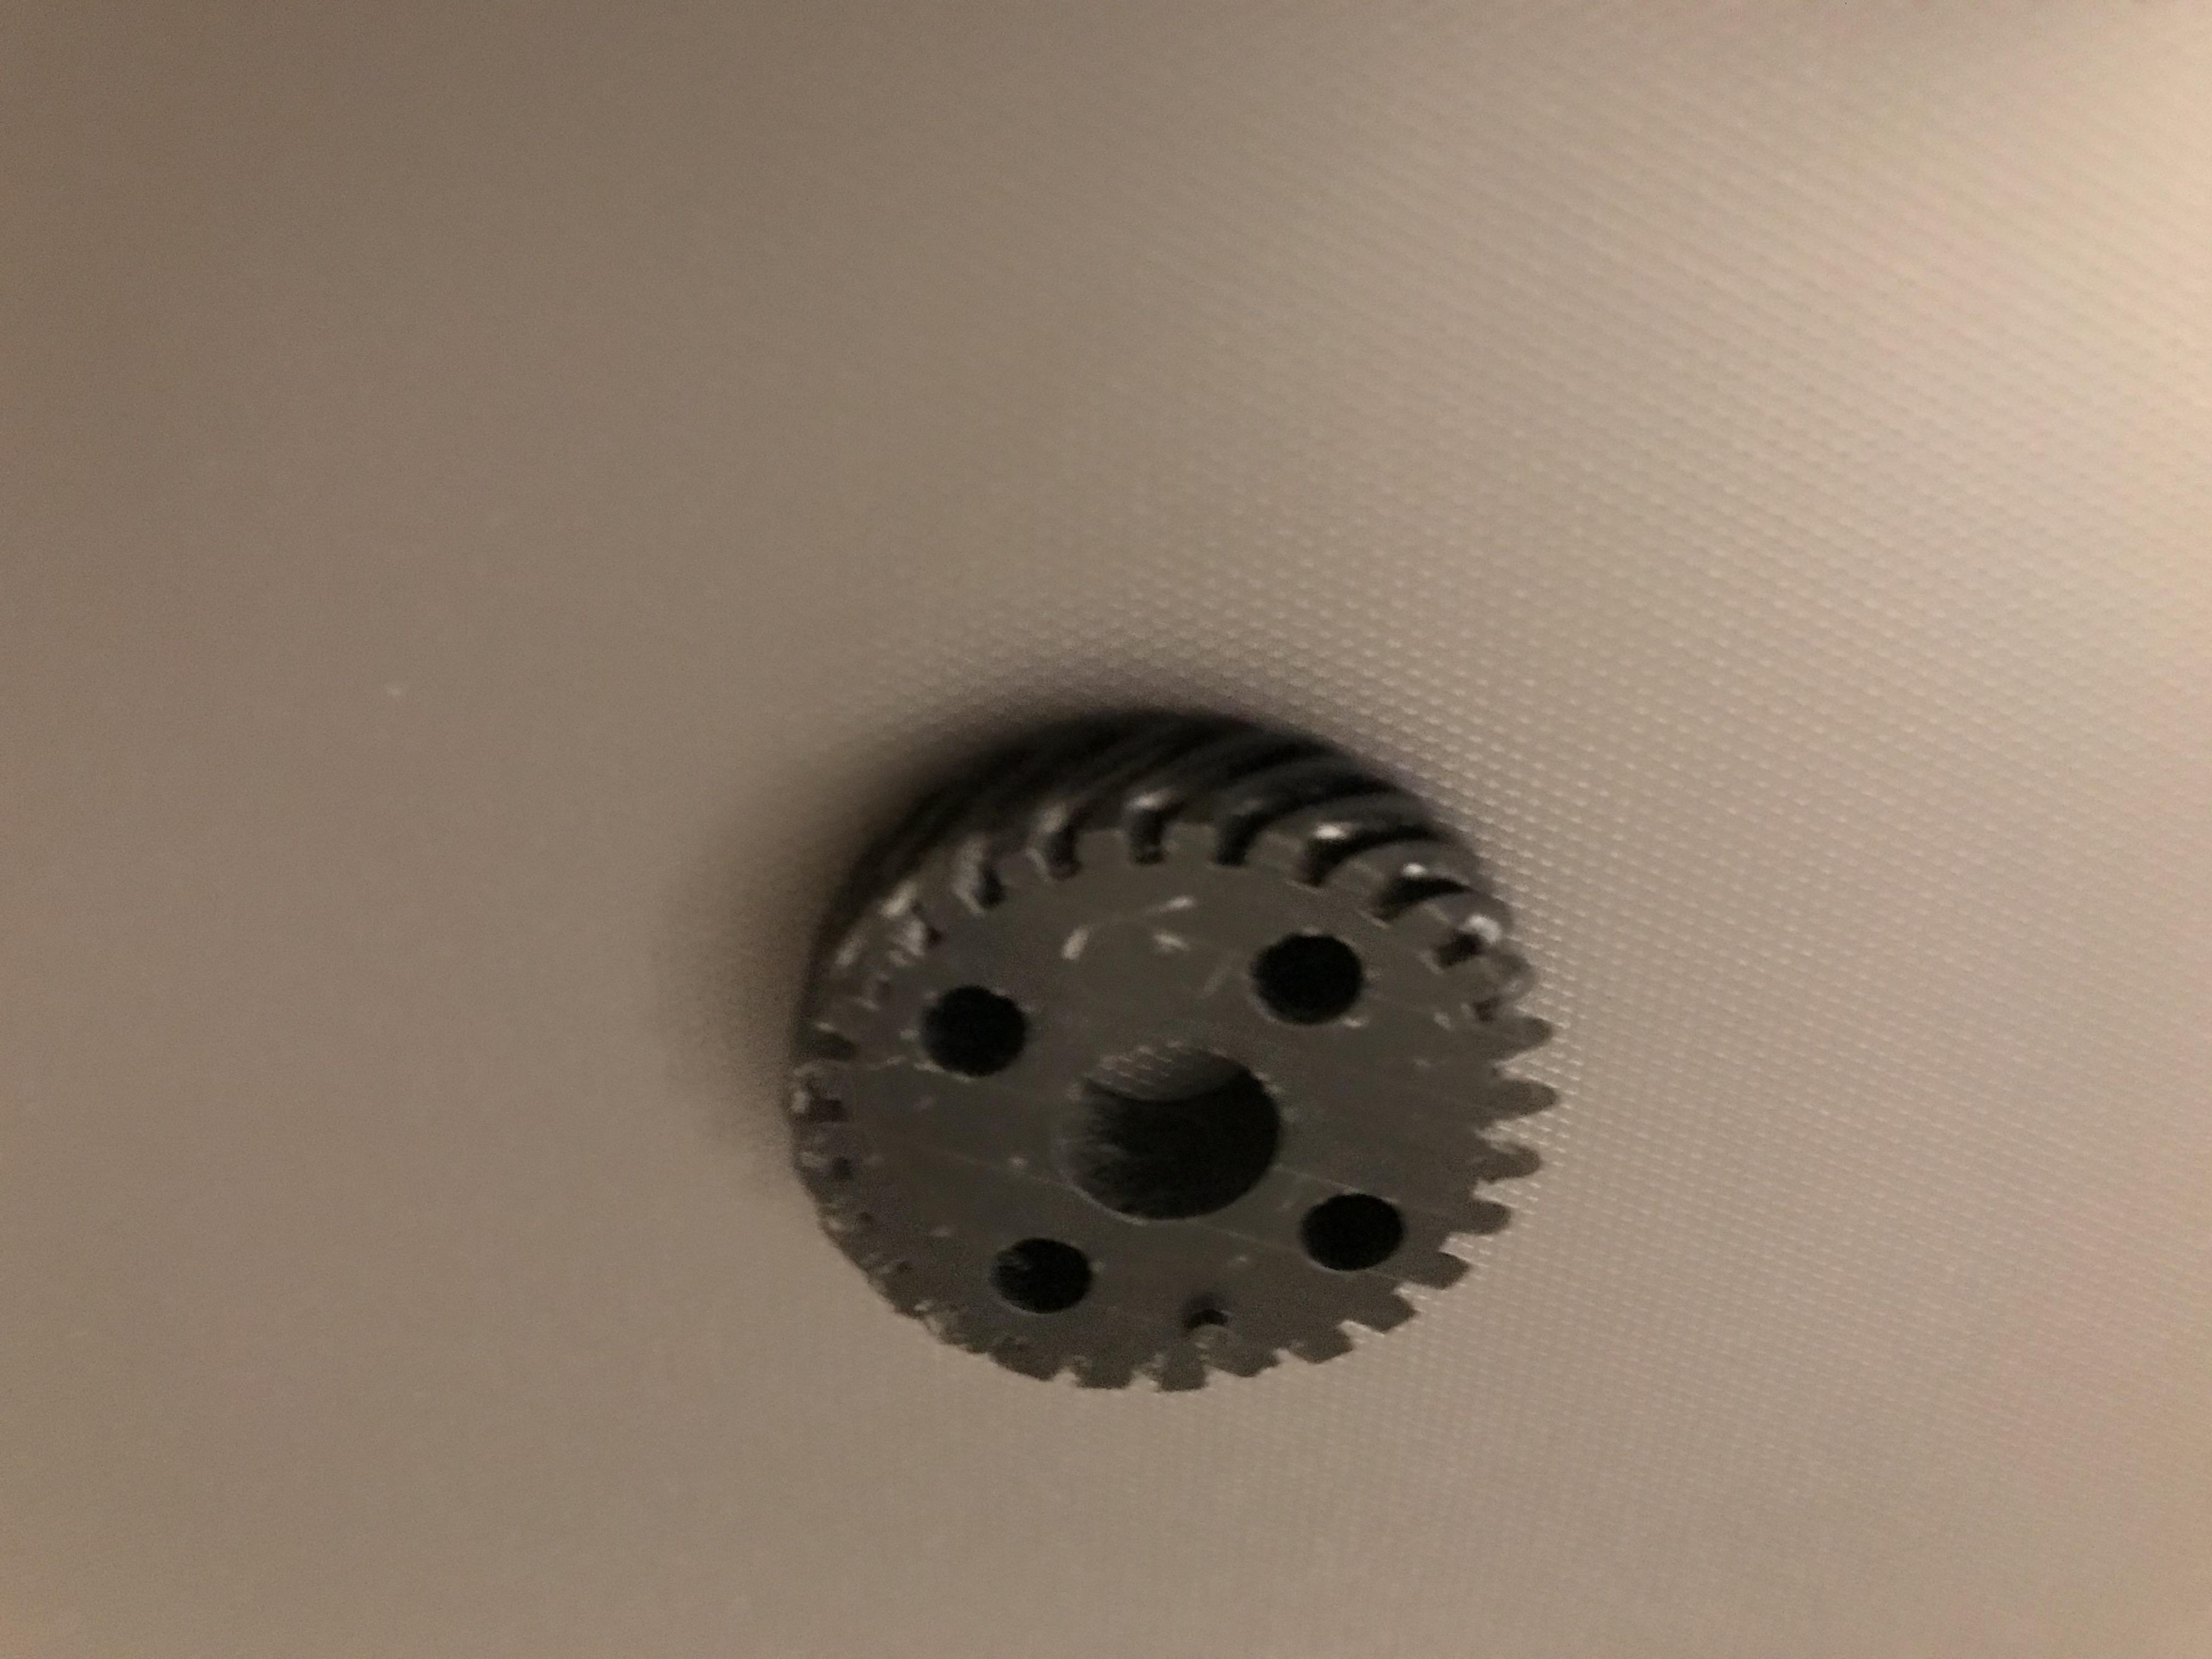Wheel: (775, 725, 1533, 1401)
